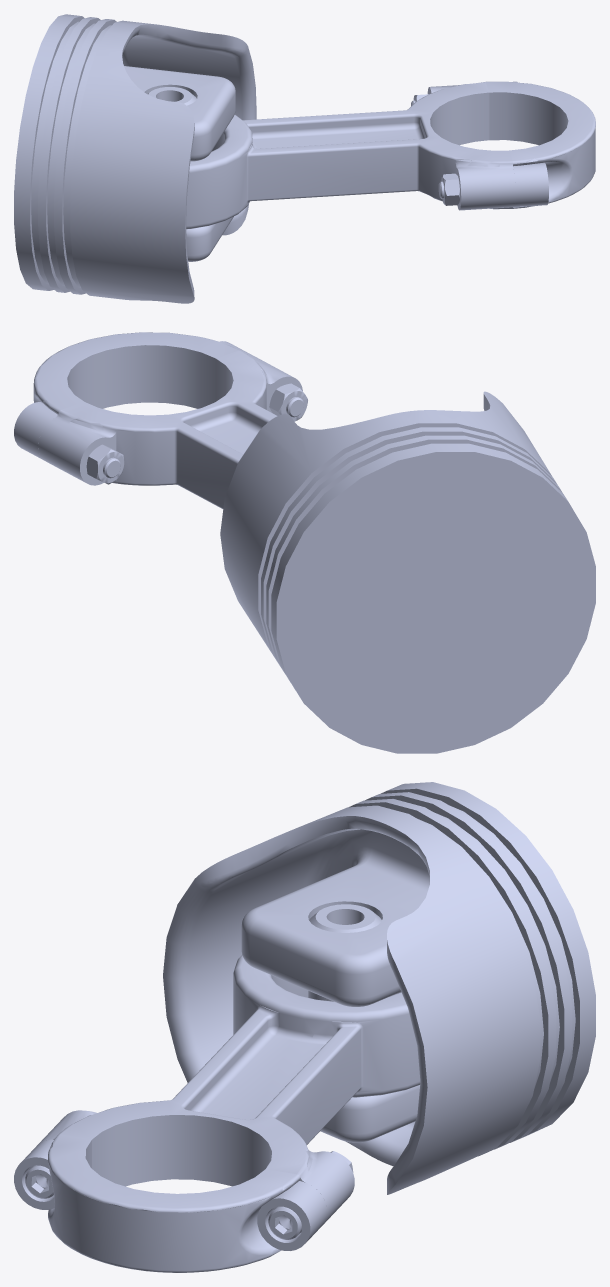
Rendered from ass_pist_f.004.fbx.
The picture shows the model from 3 angles, top to bottom: view 1: azimuth 30°, elevation 25°; view 2: azimuth 150°, elevation 25°; view 3: azimuth 270°, elevation 25°; orthographic projection. The views are drawn at different scales.
Visible parts, largest first — view 1: ME_A4; view 2: ME_A4; view 3: ME_A4.
Part boxes in pixels (x1,y1,x2,y2): ME_A4: [14, 14, 595, 303]; ME_A4: [14, 332, 595, 753]; ME_A4: [14, 782, 595, 1272].
Size of the model in its own units: 27.09 by 12.7 by 19.75.
